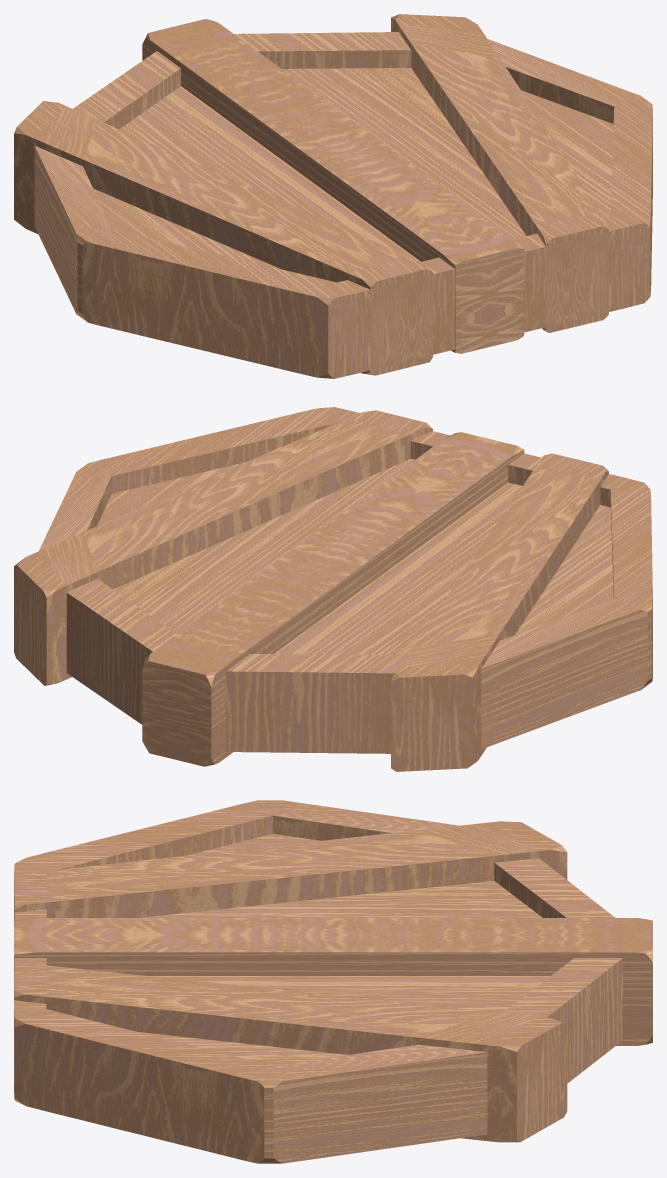
File: light-cirya-basic.glb
The picture shows the model from 3 angles, top to bottom: view 1: azimuth 30°, elevation 25°; view 2: azimuth 150°, elevation 25°; view 3: azimuth 270°, elevation 25°; orthographic projection. The views are drawn at different scales.
Parts seen in each view (by area): view 1: Cube.004; view 2: Cube.004; view 3: Cube.004.
Boxes of the visible parts, x1,y1,x2,y2 form: Cube.004: (14,14,652,378); Cube.004: (14,407,652,771); Cube.004: (14,800,652,1163).
Bounding box in the file's own units: 1.99 × 0.3135 × 1.89.
Materials: 1 (1 with a texture image).
